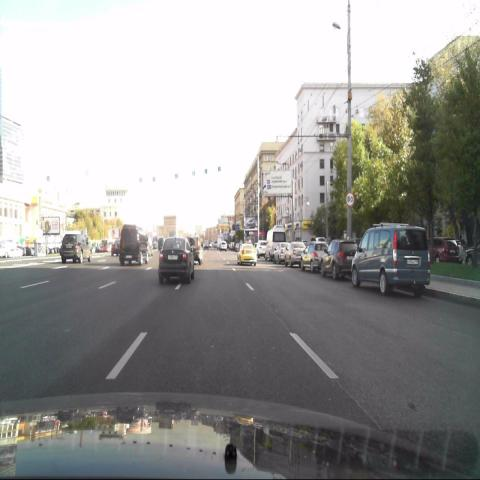3_24: (346, 192, 354, 206)
